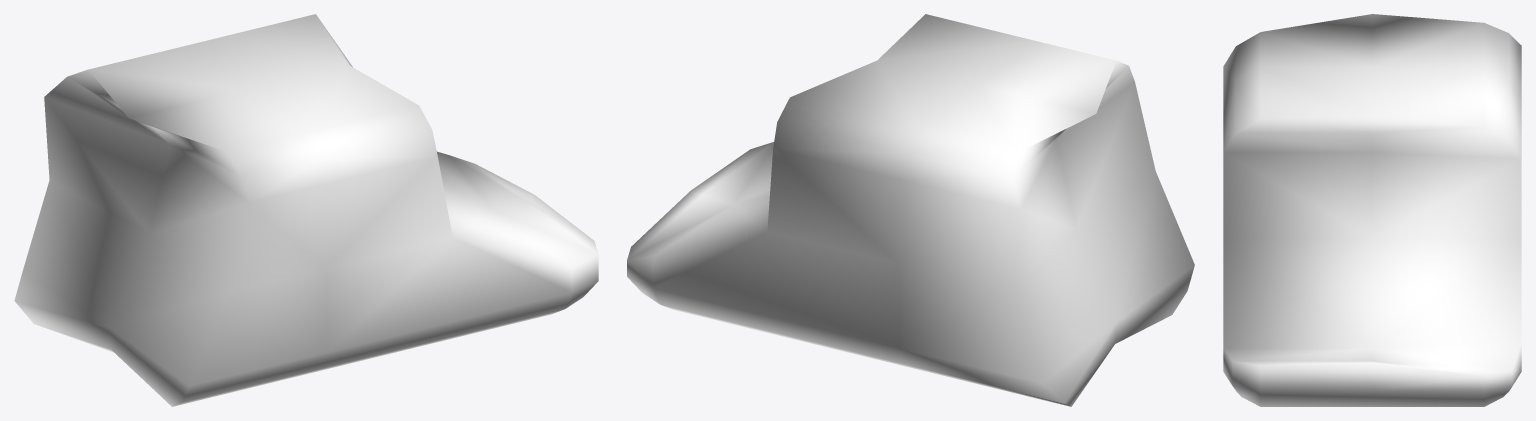
The model's file is WhiteBrickBreak2.obj.
3 views of the same model, side by side, from view 1: azimuth 30°, elevation 25°; view 2: azimuth 150°, elevation 25°; view 3: azimuth 270°, elevation 25° (orthographic). The views are drawn at different scales.
Parts seen in each view (by area): view 1: OriginalBrick.004_Cube.007; view 2: OriginalBrick.004_Cube.007; view 3: OriginalBrick.004_Cube.007.
Boxes of the visible parts, x1,y1,x2,y2 form: OriginalBrick.004_Cube.007: [14, 14, 598, 406]; OriginalBrick.004_Cube.007: [627, 14, 1194, 406]; OriginalBrick.004_Cube.007: [1223, 14, 1521, 406].
Bounding box in the file's own units: 0.6988 × 0.36 × 0.4316.
2 materials, 2 textured.
